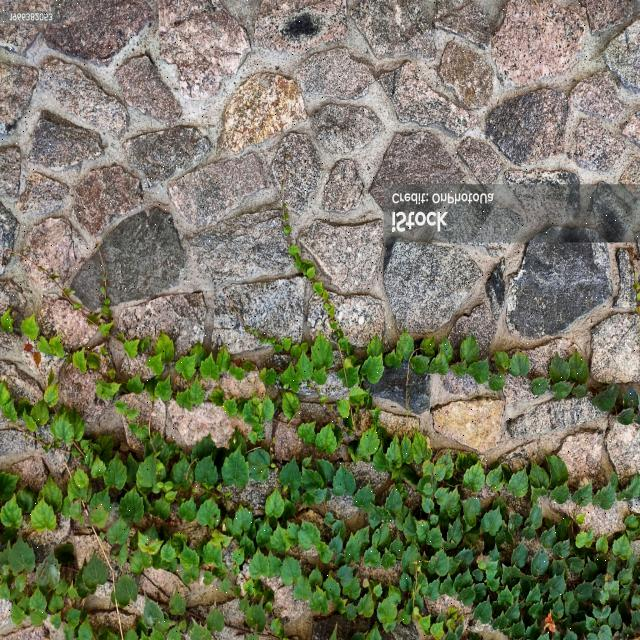vegetation: (0, 246, 639, 639)
